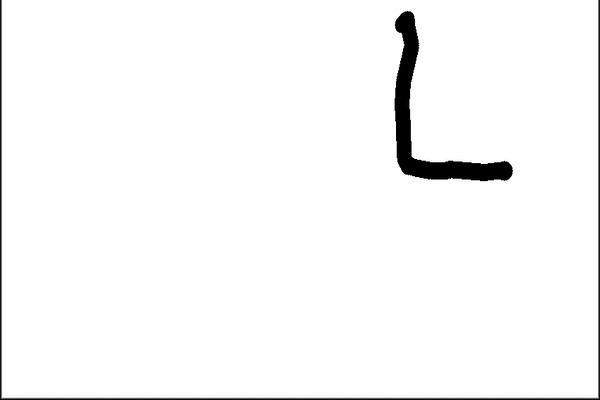L: (377, 5, 518, 185)
